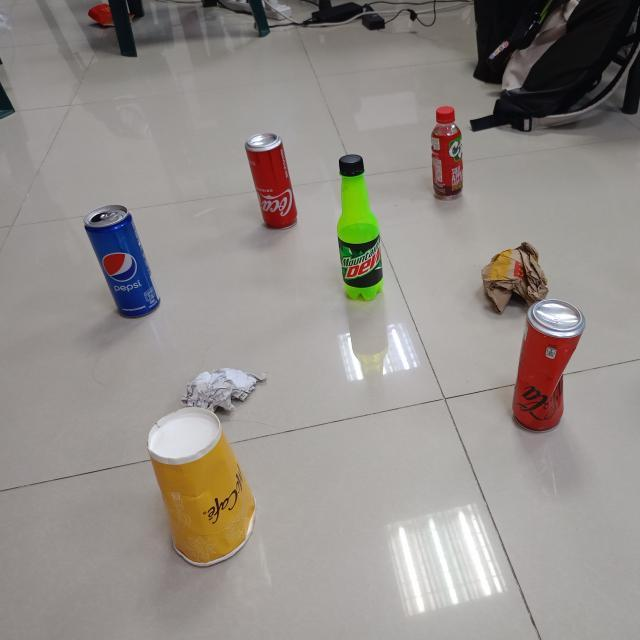recyclable waste: (142, 402, 261, 572), (508, 294, 592, 436), (78, 199, 166, 323), (332, 148, 389, 306), (474, 237, 552, 318), (242, 128, 300, 232), (177, 363, 276, 419), (426, 102, 466, 205)
